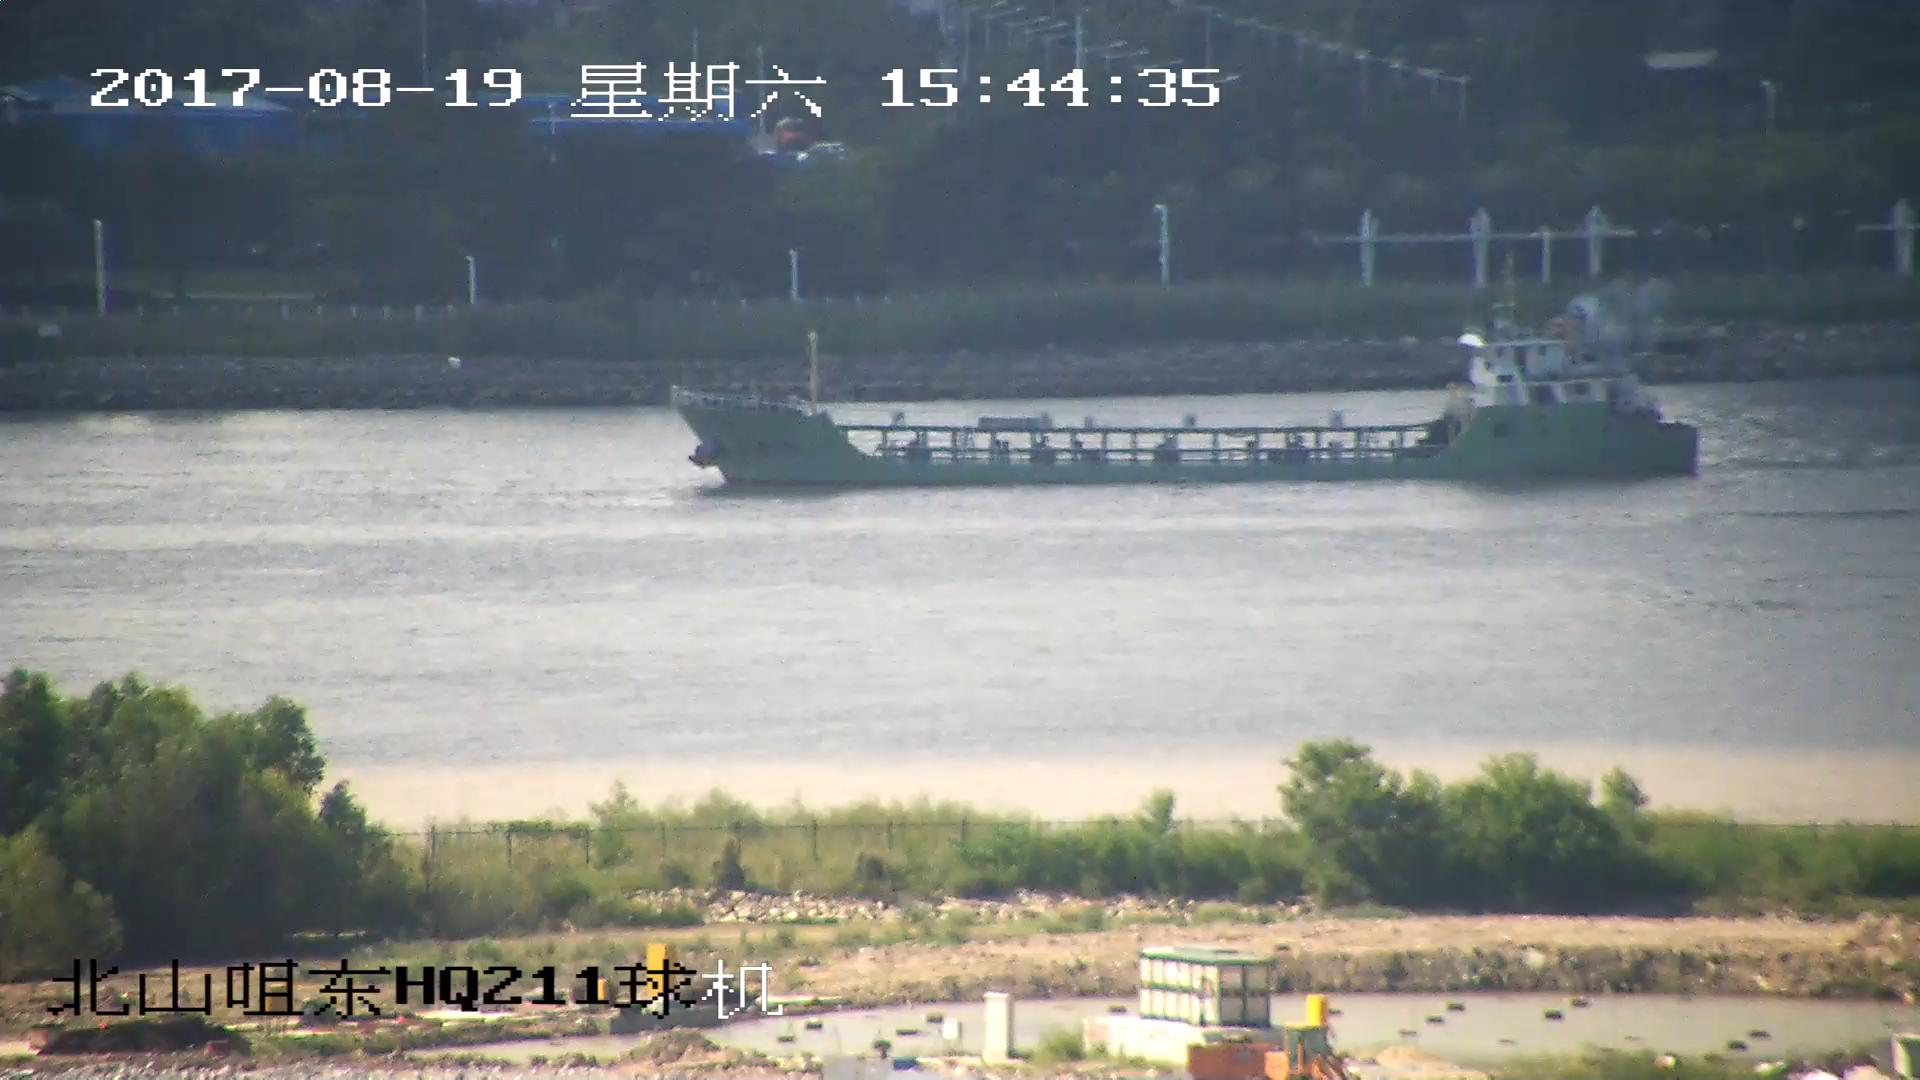general cargo ship: (670, 302, 1698, 488)
